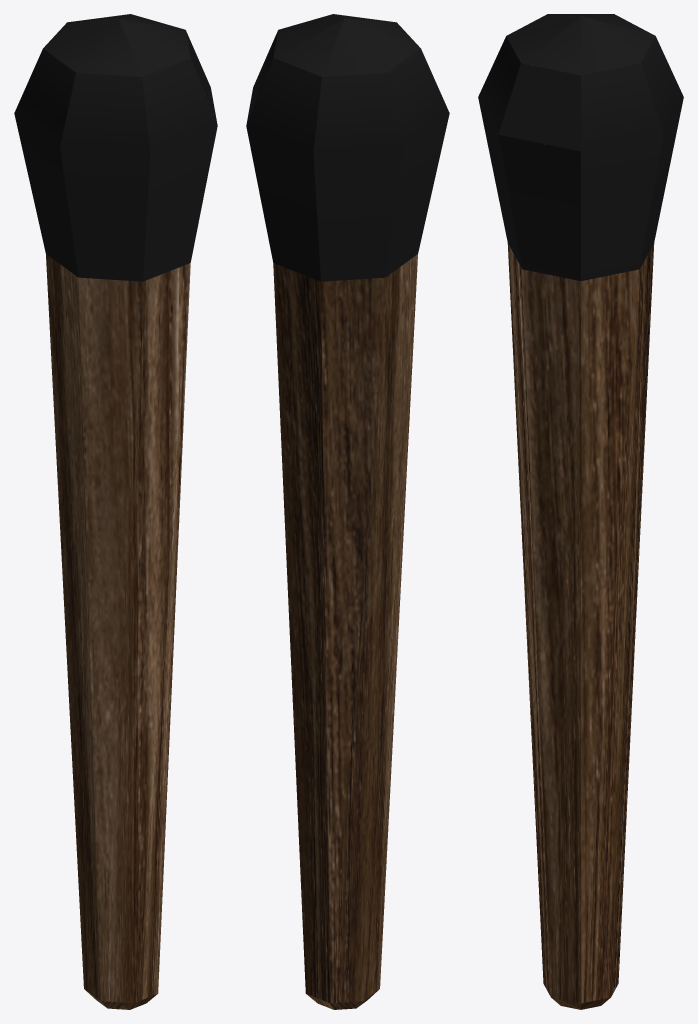
File: torch.fbx
3 views of the same model, side by side, from view 1: azimuth 30°, elevation 25°; view 2: azimuth 150°, elevation 25°; view 3: azimuth 270°, elevation 25° (orthographic).
Visible parts, largest first — view 1: pCylinder1; view 2: pCylinder1; view 3: pCylinder1.
Boxes of the visible parts, x1,y1,x2,y2 form: pCylinder1: (14,14,217,1009); pCylinder1: (246,14,449,1009); pCylinder1: (478,14,683,1009).
Bounding box in the file's own units: 0.8292 × 4.48 × 0.8505.
3 materials, 1 textured.
